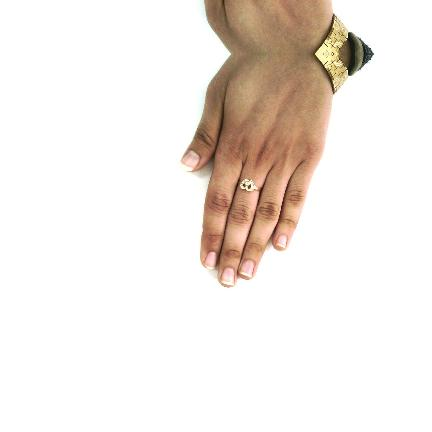Nail: (179, 149, 200, 171), (240, 260, 255, 278), (221, 267, 235, 286), (204, 251, 217, 269), (274, 235, 288, 251)
